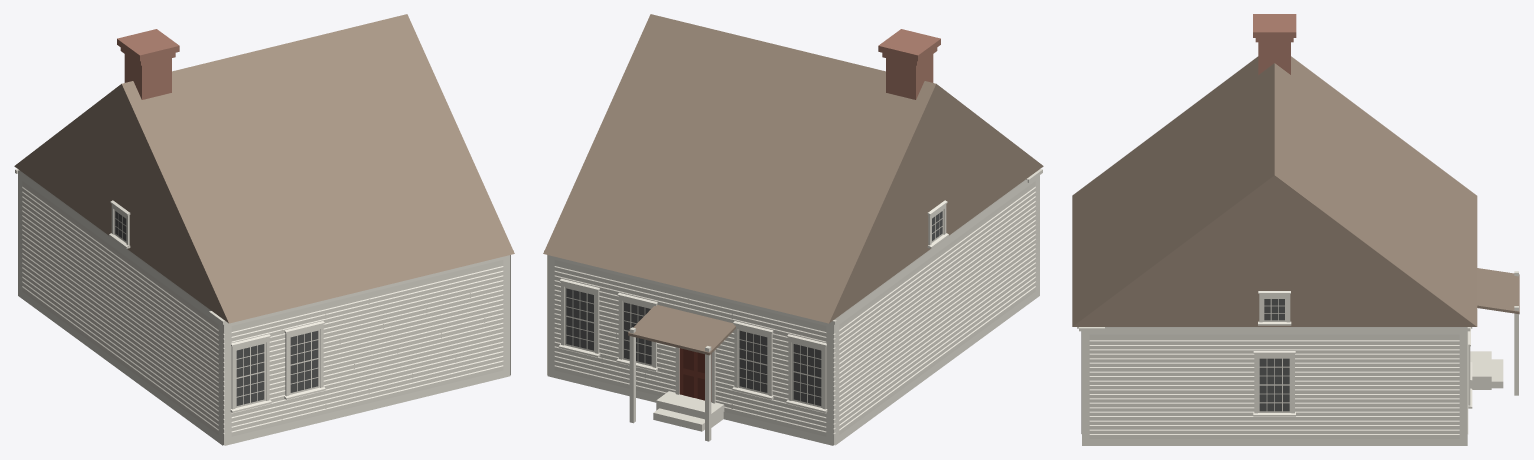
File: recon_1835_blk_south_water_dearborn_h1_03__inferred_1835.glb
3 renders of one model, left to right at view 1: azimuth 30°, elevation 25°; view 2: azimuth 150°, elevation 25°; view 3: azimuth 270°, elevation 25°, orthographic. The views are drawn at different scales.
Parts seen in each view (by area): view 1: recon_1835_blk_south_water_dearborn_h1_03__inferred_1835; view 2: recon_1835_blk_south_water_dearborn_h1_03__inferred_1835; view 3: recon_1835_blk_south_water_dearborn_h1_03__inferred_1835.
Boxes of the visible parts, bbox=[...] form: recon_1835_blk_south_water_dearborn_h1_03__inferred_1835: bbox=[14, 14, 514, 445]; recon_1835_blk_south_water_dearborn_h1_03__inferred_1835: bbox=[543, 14, 1043, 445]; recon_1835_blk_south_water_dearborn_h1_03__inferred_1835: bbox=[1072, 14, 1519, 445].
Size of the model in its own units: 8.26 by 8.64 by 11.56.
